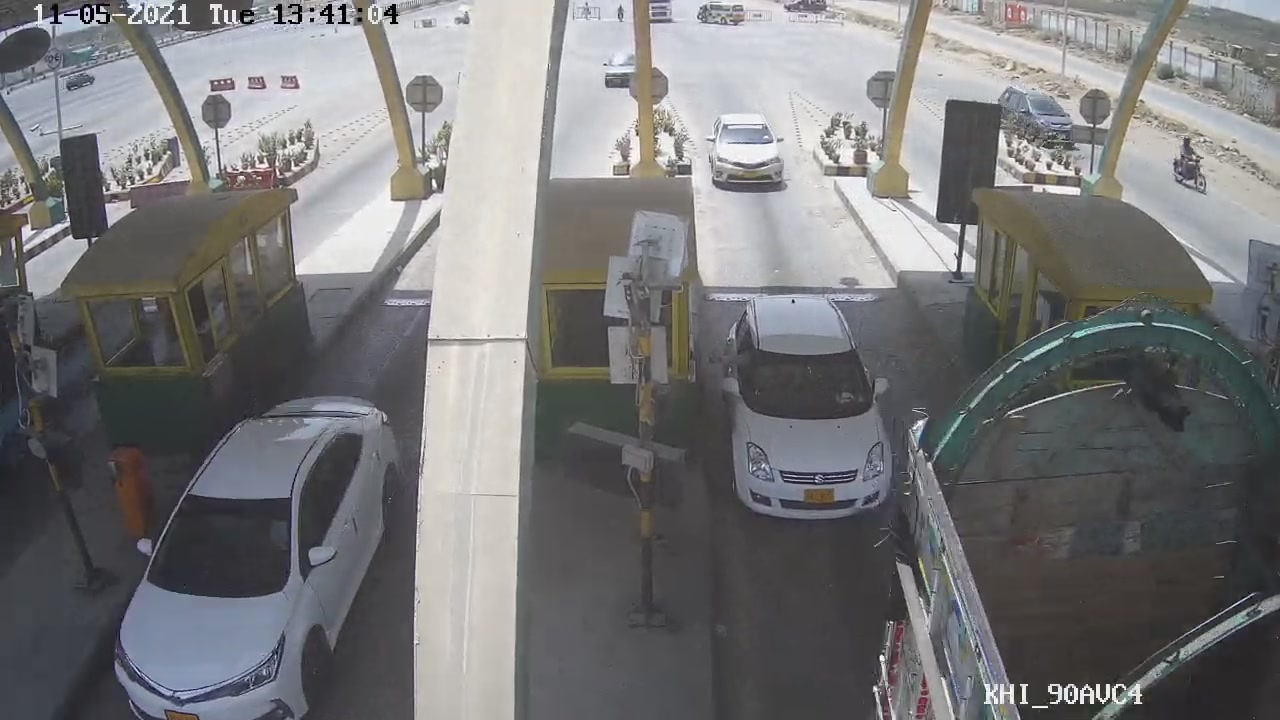F1: (711, 280, 906, 521)
